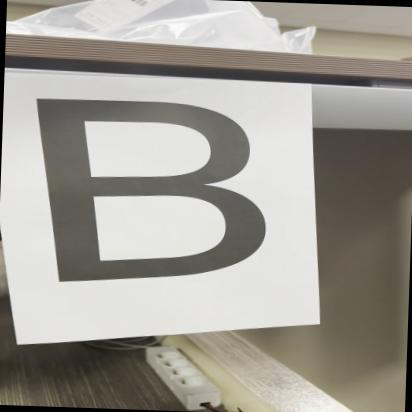seat: (2, 84, 298, 299)
